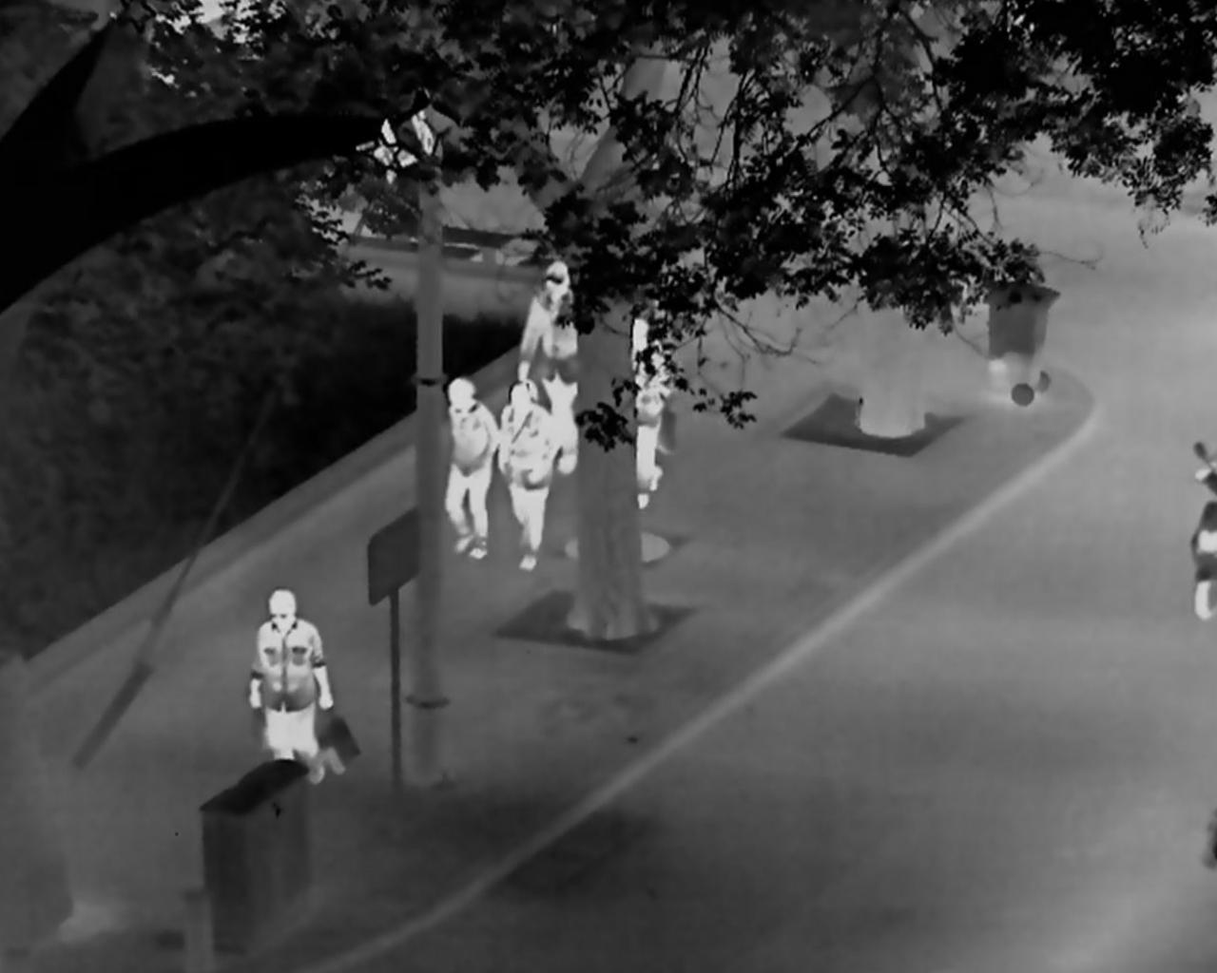person: (249, 586, 334, 785), (516, 259, 581, 475), (498, 377, 564, 572), (443, 376, 499, 560), (632, 316, 673, 509)
